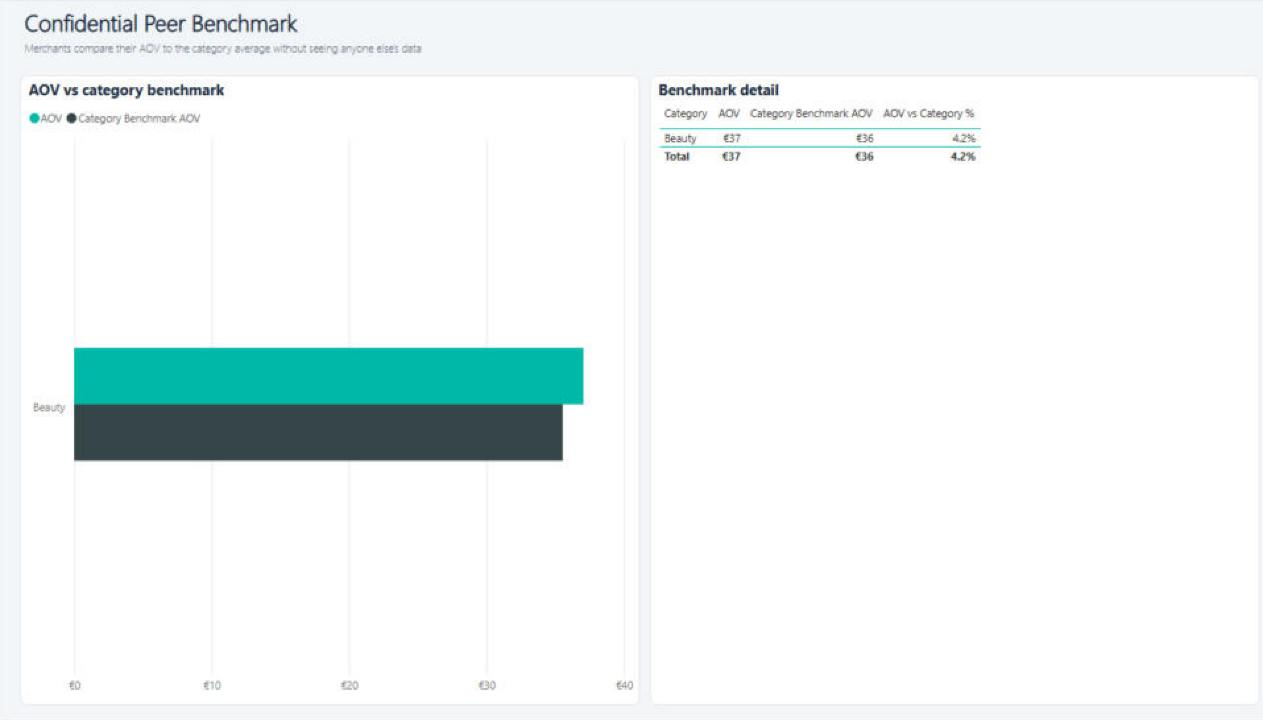

The page's visual inventory and layout, read from the dashboard file:
{"tool":"powerbi","page":{"name":"Peer Benchmark","canvas":[1280,720],"ordinal":1},"visuals":[{"type":"textbox","box":[20,2,1000,70],"z":0},{"type":"clusteredBarChart","title":"AOV vs category benchmark","fields":{"Category":["dim_merchant.Category"],"Y":["_Measures.AOV","_Measures.Category Benchmark AOV"]},"box":[20,75,620,630],"z":1000},{"type":"tableEx","title":"Benchmark detail","fields":{"Values":["dim_merchant.Category","_Measures.AOV","_Measures.Category Benchmark AOV","_Measures.AOV vs Category %"]},"box":[650,75,610,630],"z":2000}]}

Visuals, with their boxes in screenshot pixels (x1, y1, x2, y2), scaled from the page's 1280x720 canvas onto the 1263x720 screenshot:
textbox: detection(20, 2, 1006, 72)
"AOV vs category benchmark" clusteredBarChart: detection(20, 75, 632, 705)
"Benchmark detail" tableEx: detection(641, 75, 1243, 705)
